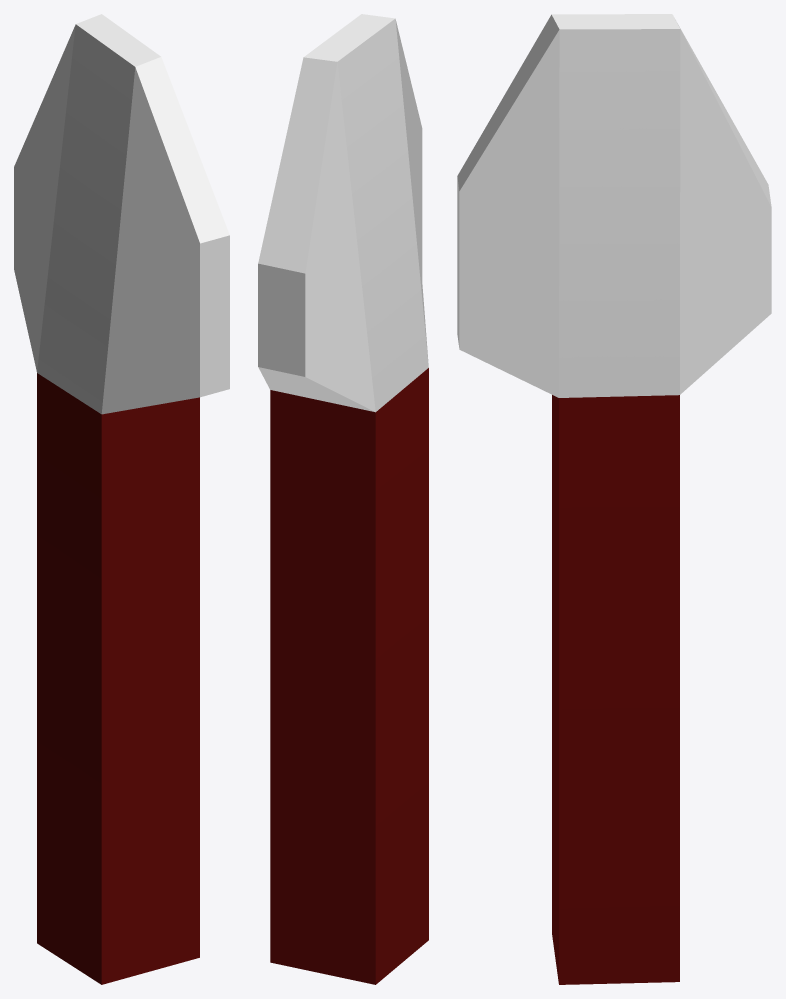
Rendered from shovel.obj.
The picture shows the model from 3 angles, left to right: view 1: azimuth 30°, elevation 25°; view 2: azimuth 150°, elevation 25°; view 3: azimuth 270°, elevation 25°; orthographic projection. The views are drawn at different scales.
Parts seen in each view (by area): view 1: Cube.009; view 2: Cube.009; view 3: Cube.009.
Part boxes in pixels (x1,y1,x2,y2): Cube.009: [14, 14, 229, 984]; Cube.009: [258, 14, 428, 984]; Cube.009: [457, 14, 771, 984].
Bounding box in the file's own units: 0.1554 × 1.26 × 0.3821.
